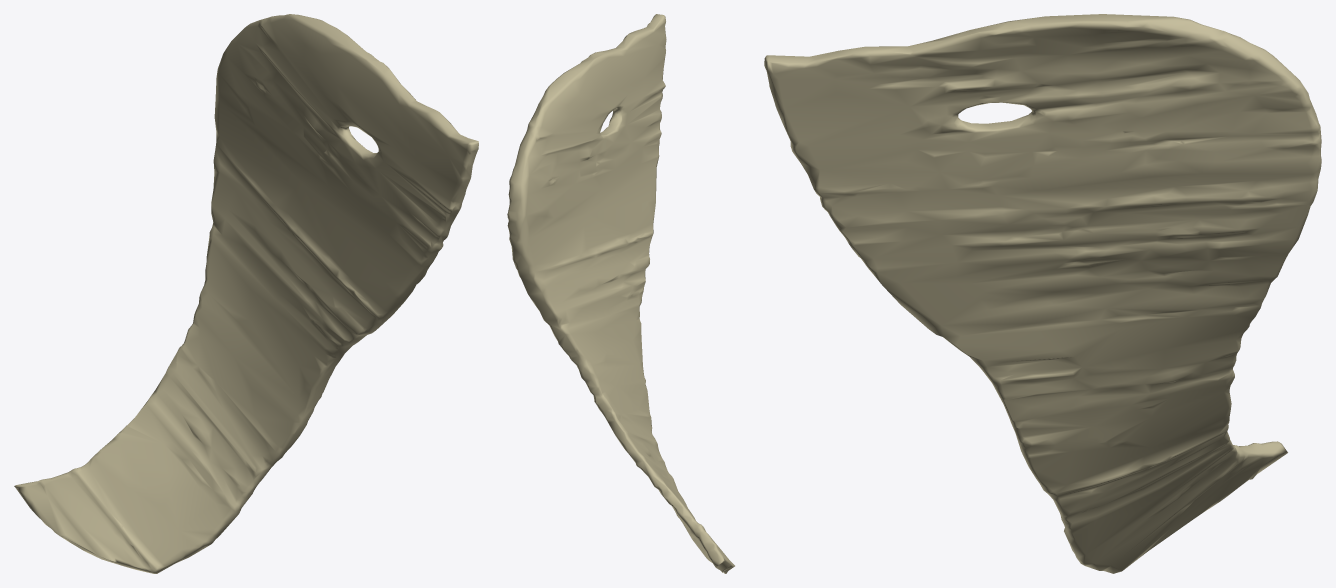
The picture shows the model from 3 angles, left to right: view 1: azimuth 30°, elevation 25°; view 2: azimuth 150°, elevation 25°; view 3: azimuth 270°, elevation 25°; orthographic projection. The views are drawn at different scales.
Visible parts, largest first — view 1: 左侧方形膜; view 2: 左侧方形膜; view 3: 左侧方形膜.
Part boxes in pixels (x1=…): 左侧方形膜: x1=14, y1=14, x2=478, y2=573; 左侧方形膜: x1=507, y1=14, x2=734, y2=573; 左侧方形膜: x1=764, y1=14, x2=1321, y2=573.
Bounding box in the file's own units: 0.0236 × 0.0419 × 0.0318.
